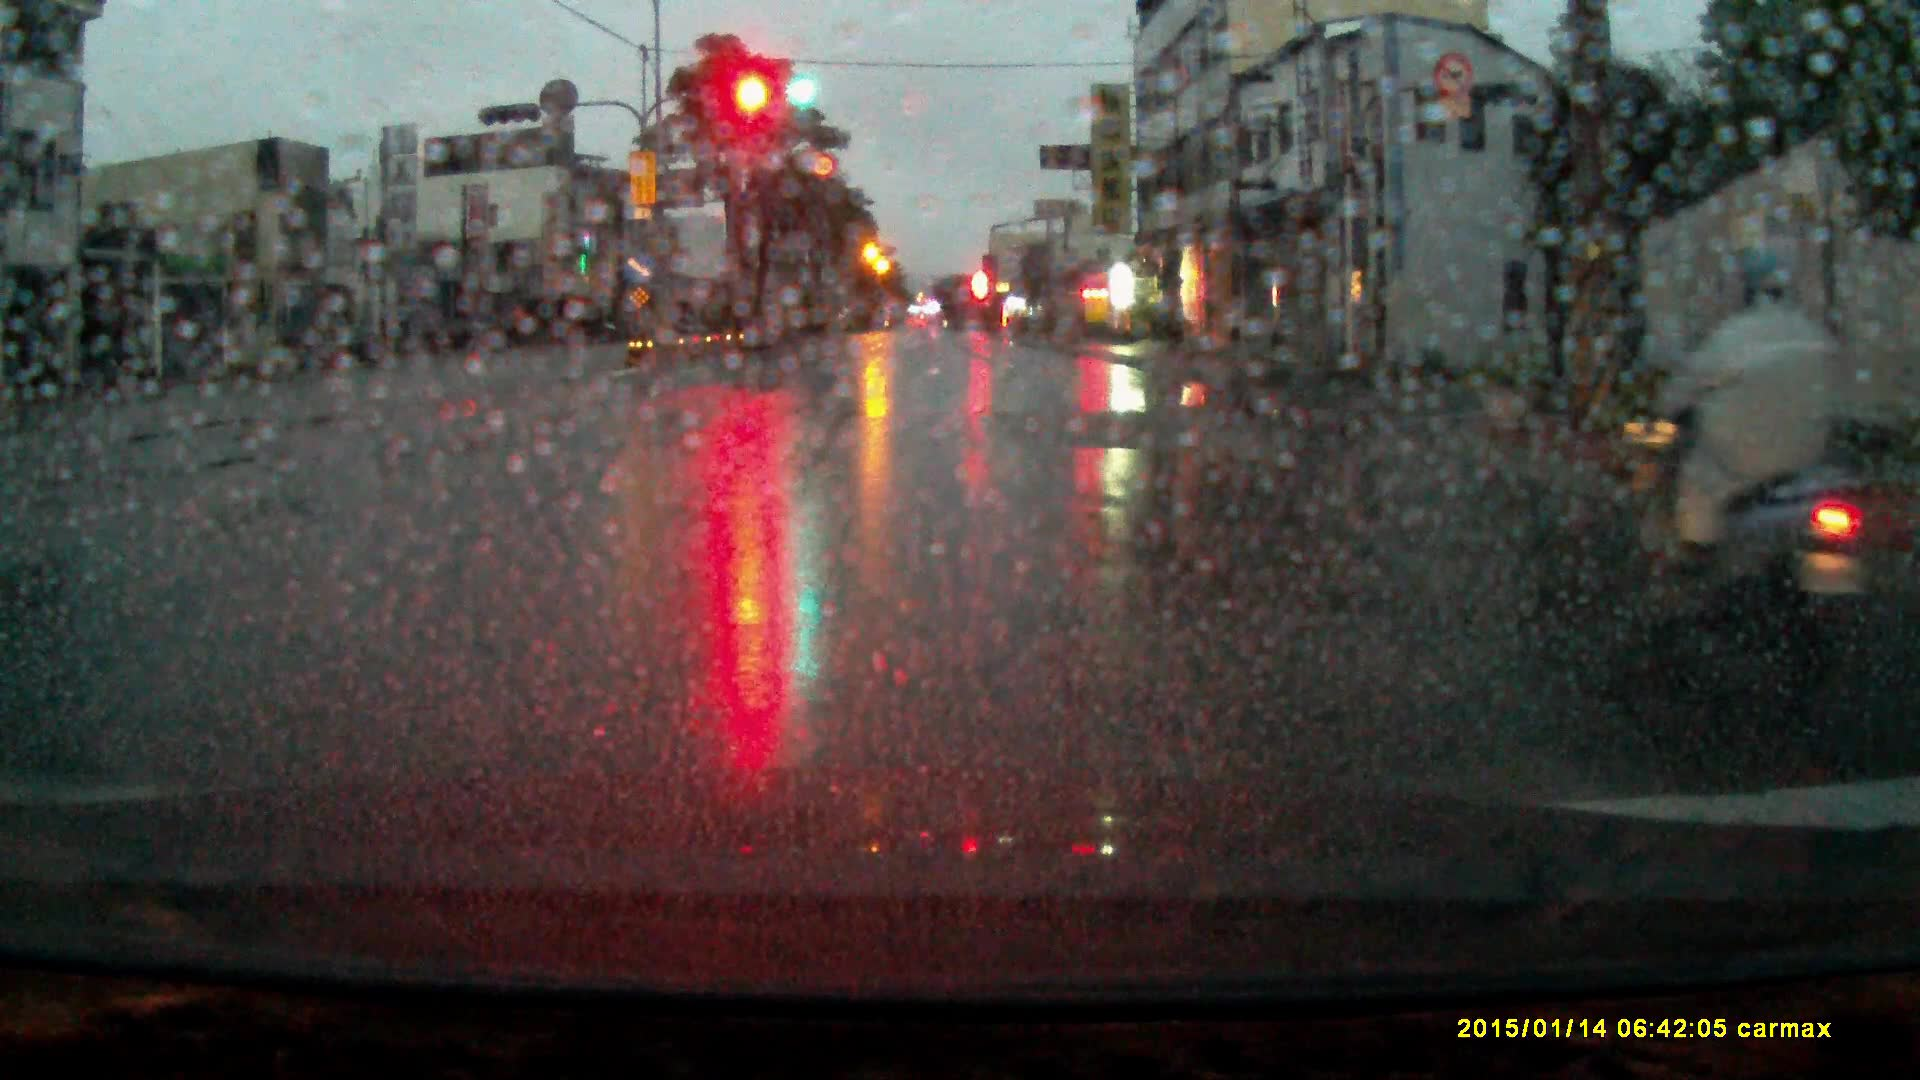rider: (1646, 237, 1887, 747)
